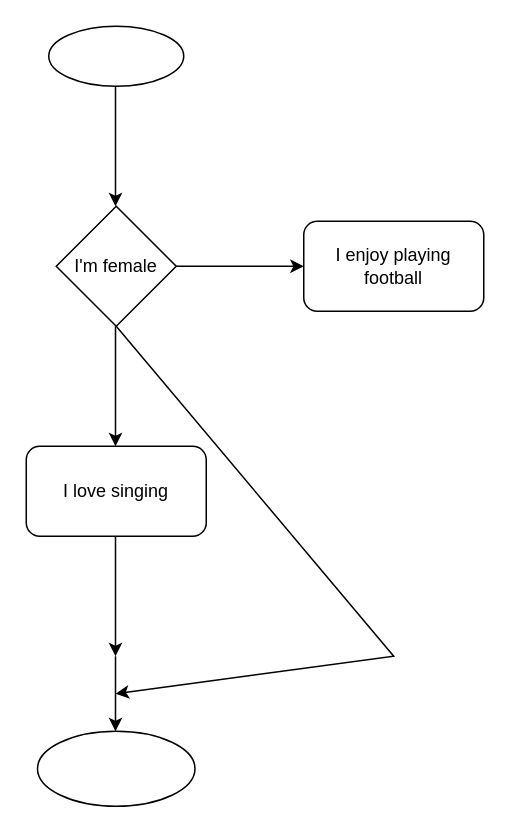
The diagram is 510 pixels wide and 833 high, and some of its shapes have lost their labels. The box of each missing label's shape, as (x1, y1, x2, y2) in pixels:
End: (36, 730, 195, 806)
Start: (47, 25, 184, 86)
